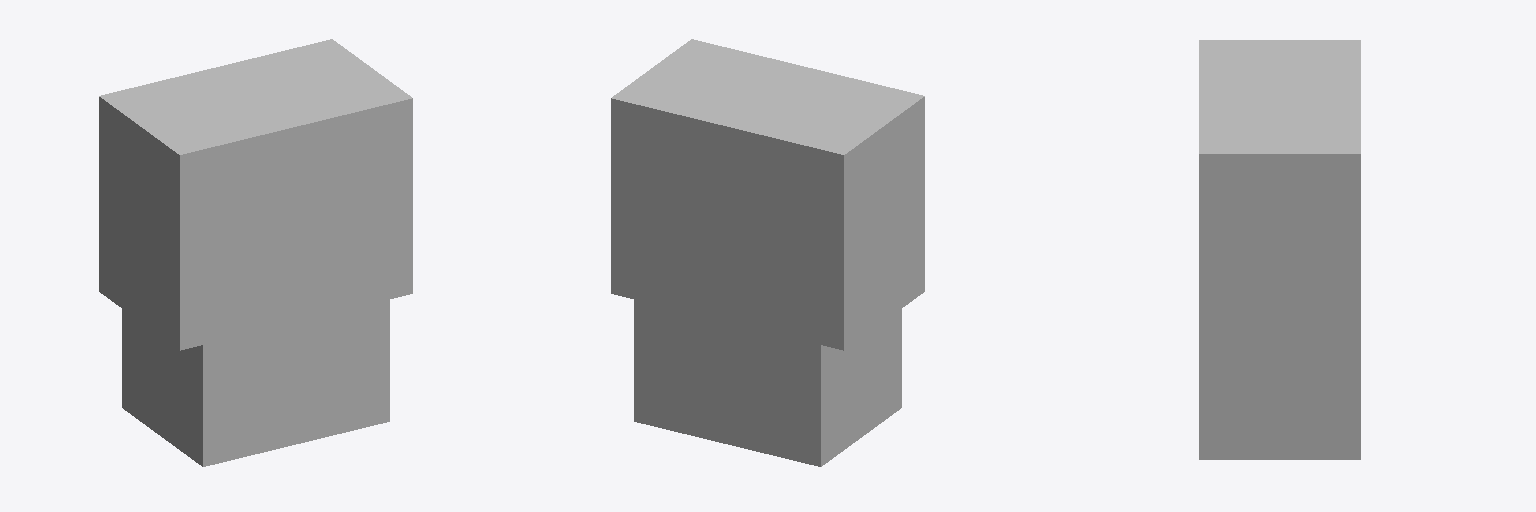
File: Player.obj
3 views of the same model, side by side, from view 1: azimuth 30°, elevation 25°; view 2: azimuth 150°, elevation 25°; view 3: azimuth 270°, elevation 25° (orthographic).
Visible parts, largest first — view 1: object 1; view 2: object 1; view 3: object 1.
Part boxes in pixels (left/top/right/bottom): object 1: left=99, top=39, right=412, bottom=466; object 1: left=611, top=39, right=924, bottom=466; object 1: left=1199, top=40, right=1360, bottom=459.
Size of the model in its own units: 1 by 1.3 by 0.6.